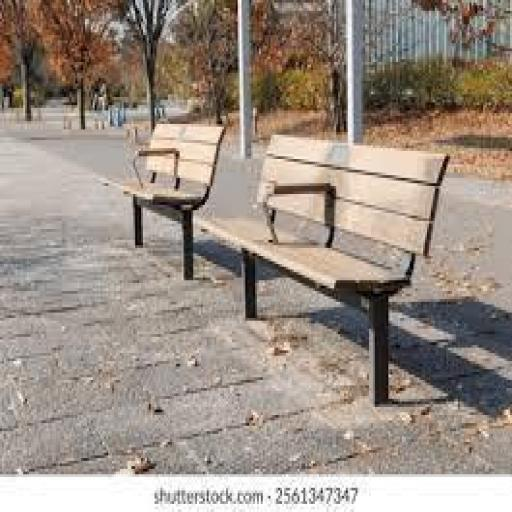chair: (203, 128, 454, 406)
